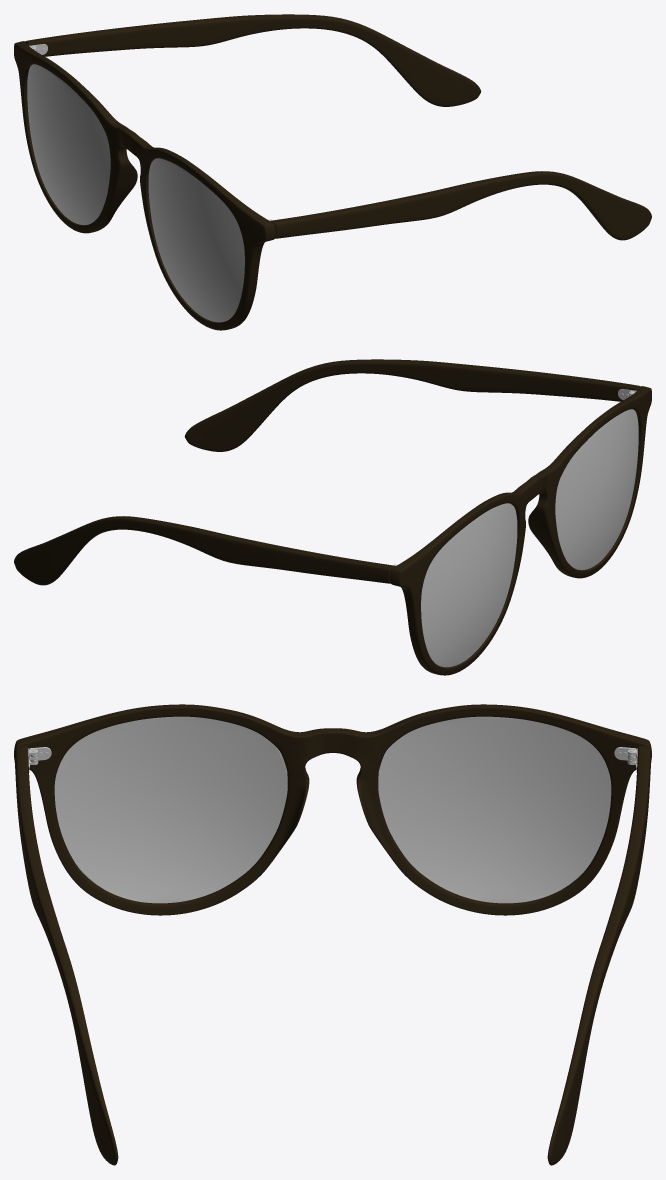
The picture shows the model from 3 angles, top to bottom: view 1: azimuth 30°, elevation 25°; view 2: azimuth 150°, elevation 25°; view 3: azimuth 270°, elevation 25°; orthographic projection. The views are drawn at different scales.
Visible parts, largest first — view 1: Sphere001, Line001, Line003, Sphere002, Line002; view 2: Sphere002, Line001, Line002, Sphere001, Line003; view 3: Sphere002, Sphere001, Line001, Line002, Line003.
Boxes of the visible parts, bbox=[...] form: Sphere001: bbox=[148, 158, 244, 322]; Line001: bbox=[14, 41, 275, 330]; Line003: bbox=[25, 14, 481, 106]; Sphere002: bbox=[27, 64, 110, 225]; Line002: bbox=[270, 171, 651, 240]; Sphere002: bbox=[421, 503, 517, 667]; Line001: bbox=[390, 386, 651, 675]; Line002: bbox=[184, 359, 640, 451]; Sphere001: bbox=[555, 409, 638, 570]; Line003: bbox=[14, 516, 395, 585]; Sphere002: bbox=[378, 716, 611, 903]; Sphere001: bbox=[54, 716, 287, 903]; Line001: bbox=[14, 704, 651, 915]; Line002: bbox=[14, 746, 118, 1165]; Line003: bbox=[547, 746, 651, 1165].
Size of the model in its own units: 149 by 51.3 by 147.
